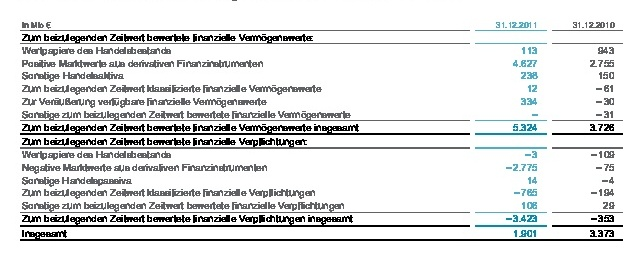table: (0, 0, 640, 263)
